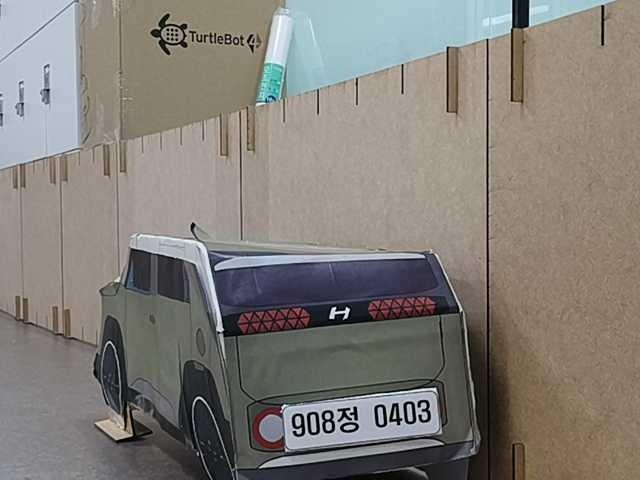car: (98, 229, 481, 480)
id: (281, 387, 442, 449)
